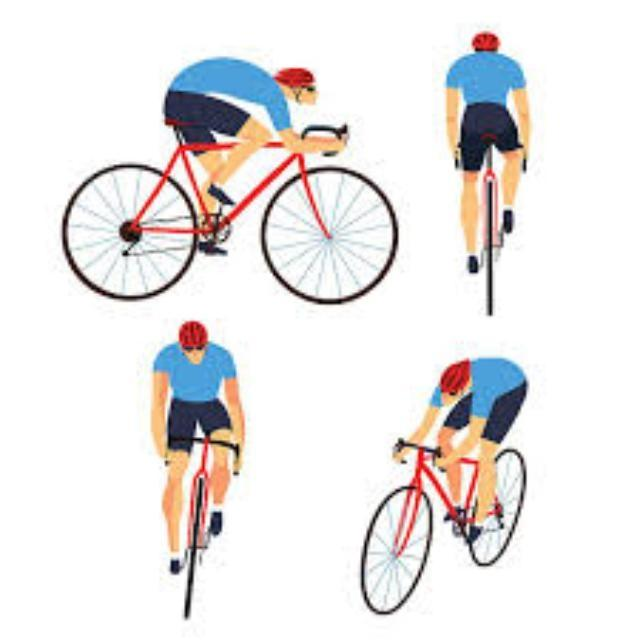obstacle: (60, 115, 408, 312), (362, 432, 522, 608)
